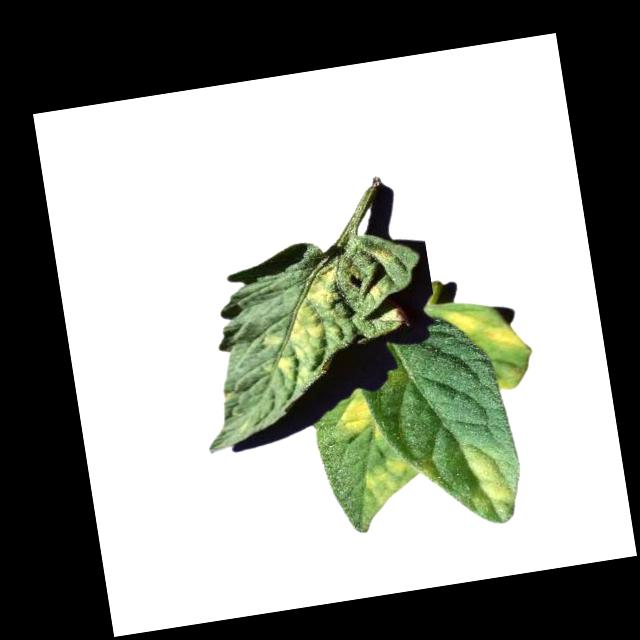Leaf_Mold: (253, 256, 361, 387), (349, 452, 430, 530), (441, 296, 531, 365), (460, 438, 522, 526), (331, 387, 387, 451)
